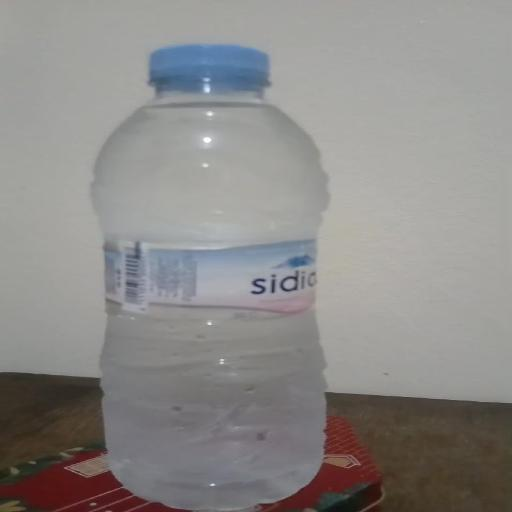bouteille conformite: (107, 35, 330, 505)
